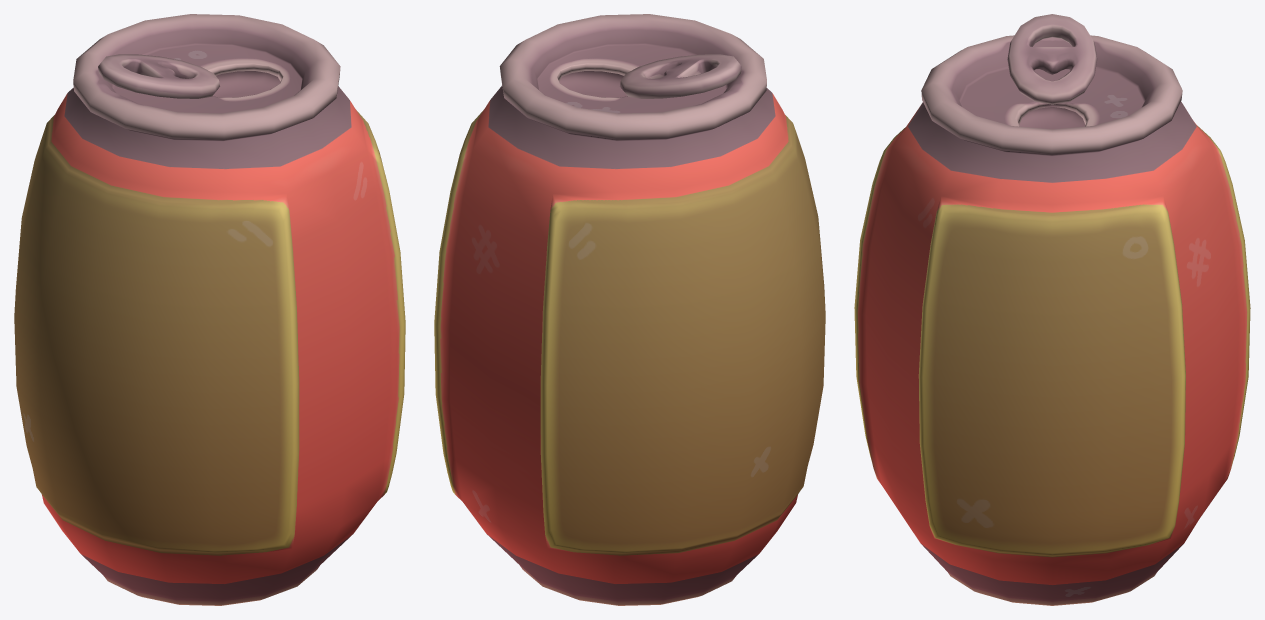
Rendered from Soda_Full.fbx.
3 views of the same model, side by side, from view 1: azimuth 30°, elevation 25°; view 2: azimuth 150°, elevation 25°; view 3: azimuth 270°, elevation 25° (orthographic). The views are drawn at different scales.
Visible parts, largest first — view 1: Soda_Full; view 2: Soda_Full; view 3: Soda_Full.
Part boxes in pixels (box(x1,y1,x2,y2)): Soda_Full: box(14, 14, 405, 605); Soda_Full: box(434, 14, 825, 605); Soda_Full: box(854, 14, 1250, 605).
Size of the model in its own units: 797 by 1179 by 844.
